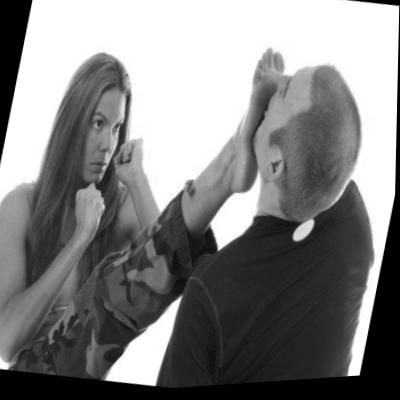angry: (75, 86, 129, 190)
